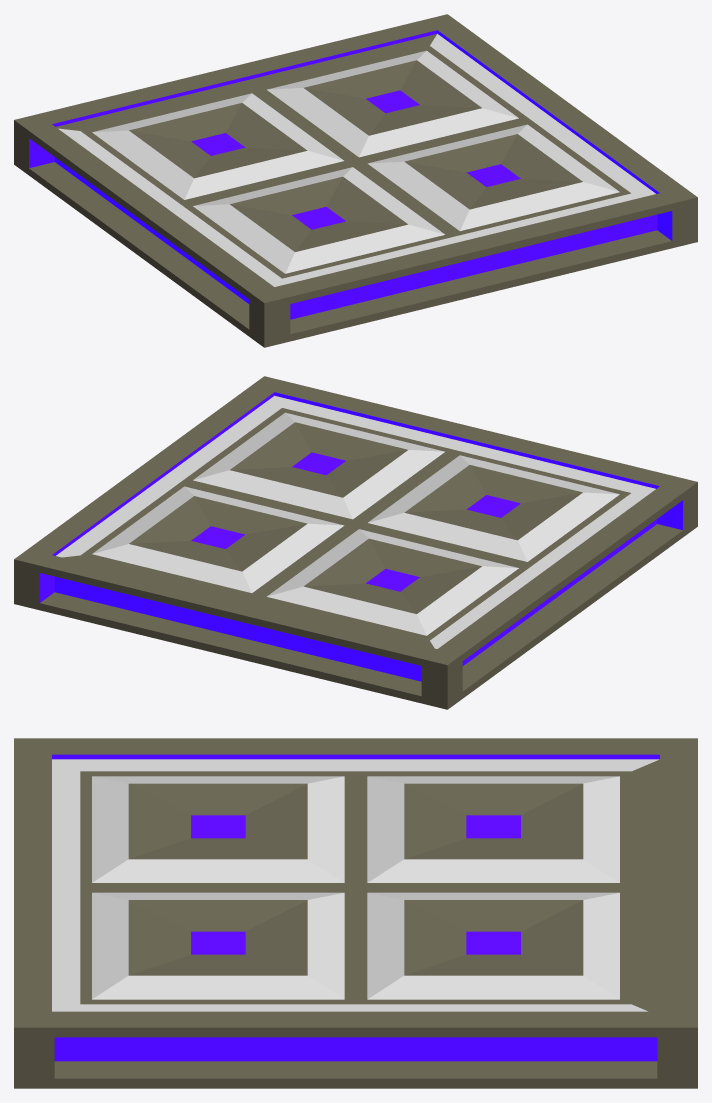
Rendered from static_panel.fbx.
3 renders of one model, top to bottom at view 1: azimuth 30°, elevation 25°; view 2: azimuth 150°, elevation 25°; view 3: azimuth 270°, elevation 25°, orthographic. The views are drawn at different scales.
Visible parts, largest first — view 1: Cube.001; view 2: Cube.001; view 3: Cube.001.
Part boxes in pixels (box(x1,y1,x2,y2)): Cube.001: box(14, 14, 697, 347); Cube.001: box(14, 376, 697, 709); Cube.001: box(14, 738, 697, 1088).
Bounding box in the file's own units: 593 × 74.15 × 593.
